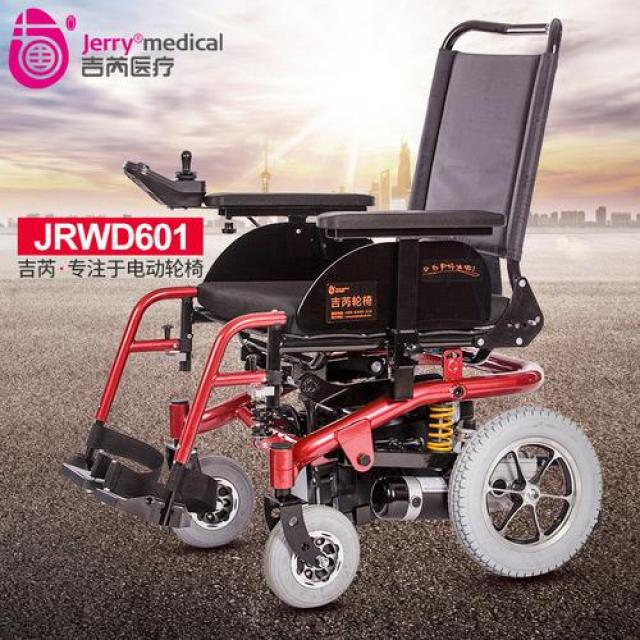wheelchairs: (56, 3, 605, 631)
